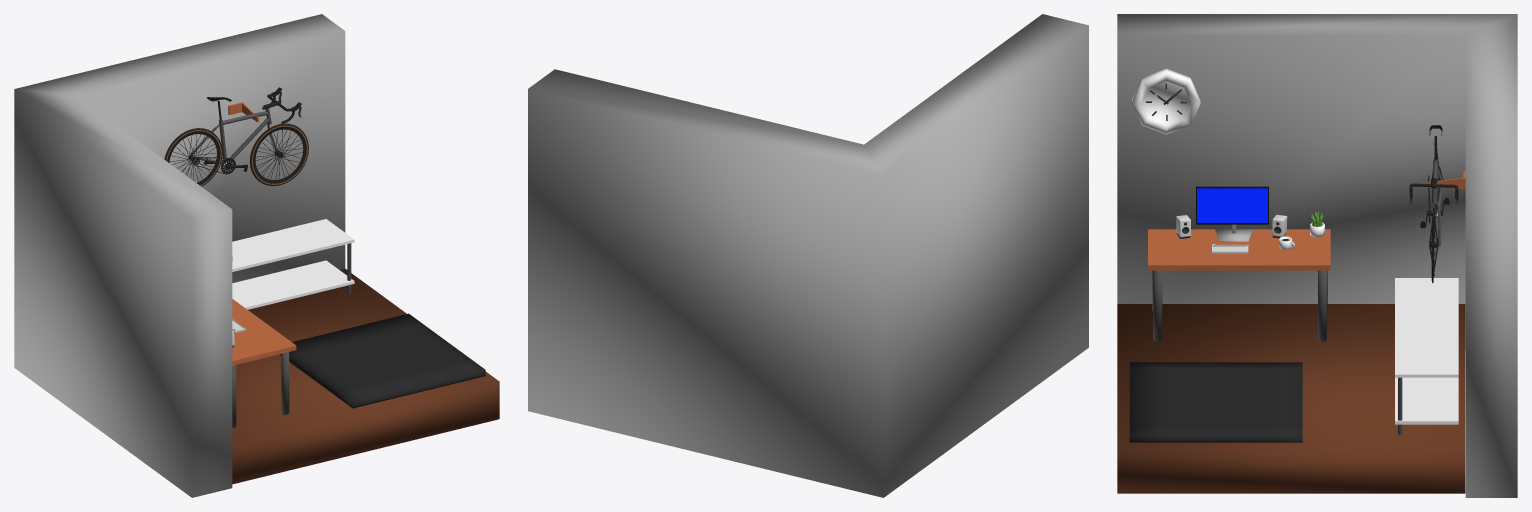
File: roomModel.glb
3 views of the same model, side by side, from view 1: azimuth 30°, elevation 25°; view 2: azimuth 150°, elevation 25°; view 3: azimuth 270°, elevation 25° (orthographic). The views are drawn at different scales.
Parts seen in each view (by area): view 1: Cube.010, floor, rug, Plane.012, Plane.011, Keyboard Frame, Circle.001, Circle.005, Plane.002, Circle.002, Circle.006, Cylinder; view 2: Cube.010; view 3: Cube.010, floor, rug, Keyboard Frame, Plane.012, clock, Plane.011, Monitor, Cylinder, Cylinder.001.
Boxes of the visible parts, x1,y1,x2,y2 form: Cube.010: (14,14,345,497); floor: (232,268,499,484); rug: (279,313,485,408); Plane.012: (232,219,354,271); Plane.011: (232,260,354,309); Keyboard Frame: (232,299,296,365); Circle.001: (250,123,308,185); Circle.005: (164,128,222,186); Plane.002: (218,108,271,162); Circle.002: (255,129,302,179); Circle.006: (169,134,216,181); Cylinder: (281,352,289,414); Cube.010: (528,14,1088,497); Cube.010: (1117,14,1517,497); floor: (1117,304,1465,493); rug: (1129,362,1302,442); Keyboard Frame: (1148,229,1330,270); Plane.012: (1395,278,1458,377); clock: (1132,68,1200,134); Plane.011: (1395,377,1458,424); Monitor: (1196,186,1268,224); Cylinder: (1153,270,1162,341); Cylinder.001: (1318,270,1326,341).
Size of what is drawn, in the model's own units: 3.51 by 3.04 by 3.51.
